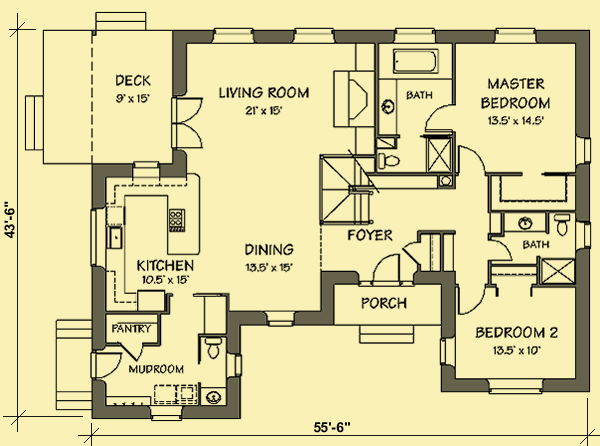door: (170, 96, 203, 153), (421, 102, 458, 134), (88, 350, 126, 380), (373, 252, 405, 287), (458, 283, 488, 317), (455, 145, 487, 175), (485, 237, 515, 265), (116, 340, 145, 363)
large_sink: (200, 337, 224, 363), (376, 152, 402, 171), (554, 213, 572, 240)
small_sink: (376, 78, 398, 140), (503, 214, 547, 233), (198, 387, 228, 405)
stairs: (321, 152, 376, 224)
tub: (390, 47, 441, 78)
window: (86, 205, 106, 268), (208, 26, 255, 46), (487, 380, 545, 395), (491, 28, 539, 46), (392, 27, 440, 43), (291, 27, 336, 44), (263, 308, 295, 330), (440, 335, 455, 368)
